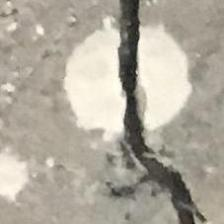Crack: (105, 0, 224, 224)
